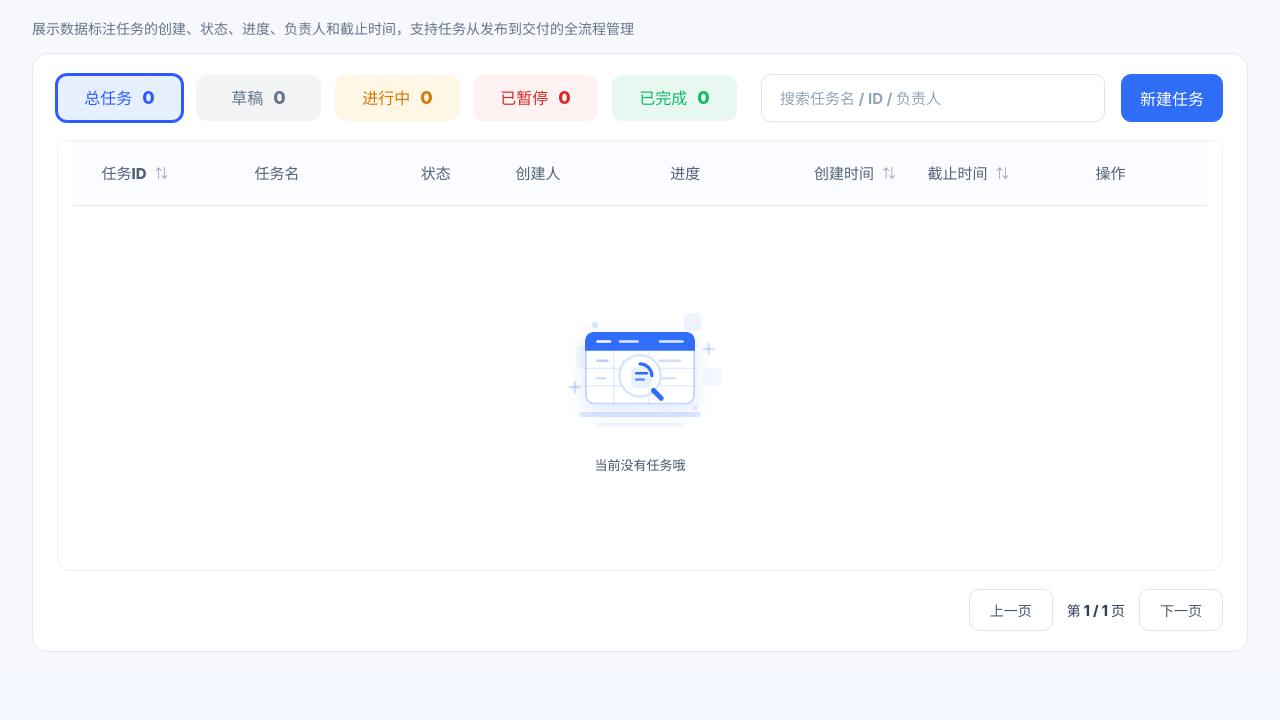
TaskListPage › 新建任务保存成功后新增行有自然入场动画
This screenshot has width=1280, height=720.
Expected: the table named "任务列表" is shown, 73,141 -> 1207,570
Step 1. Click the button "新建任务" → (1172, 98), box 1121,74 -> 1223,122
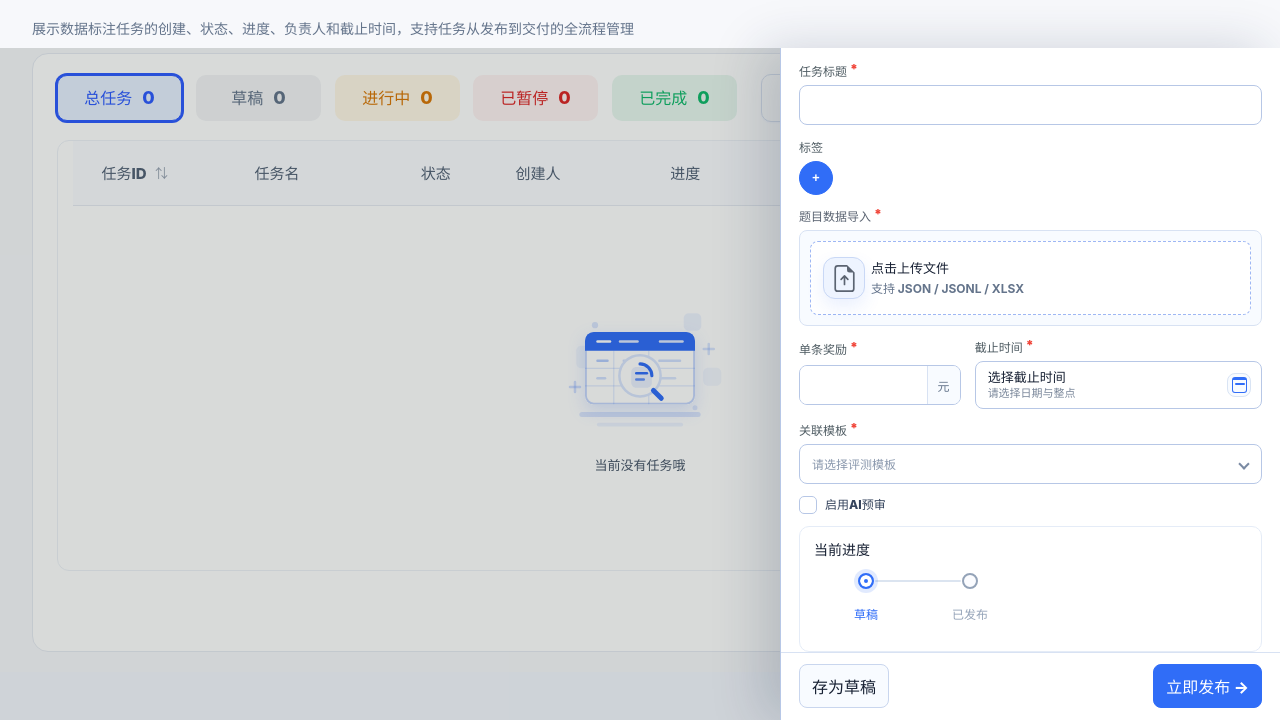
Step 2. Type "自然入场任务" into the field labelled "任务标题" → (1030, 105), box 799,85 -> 1262,125
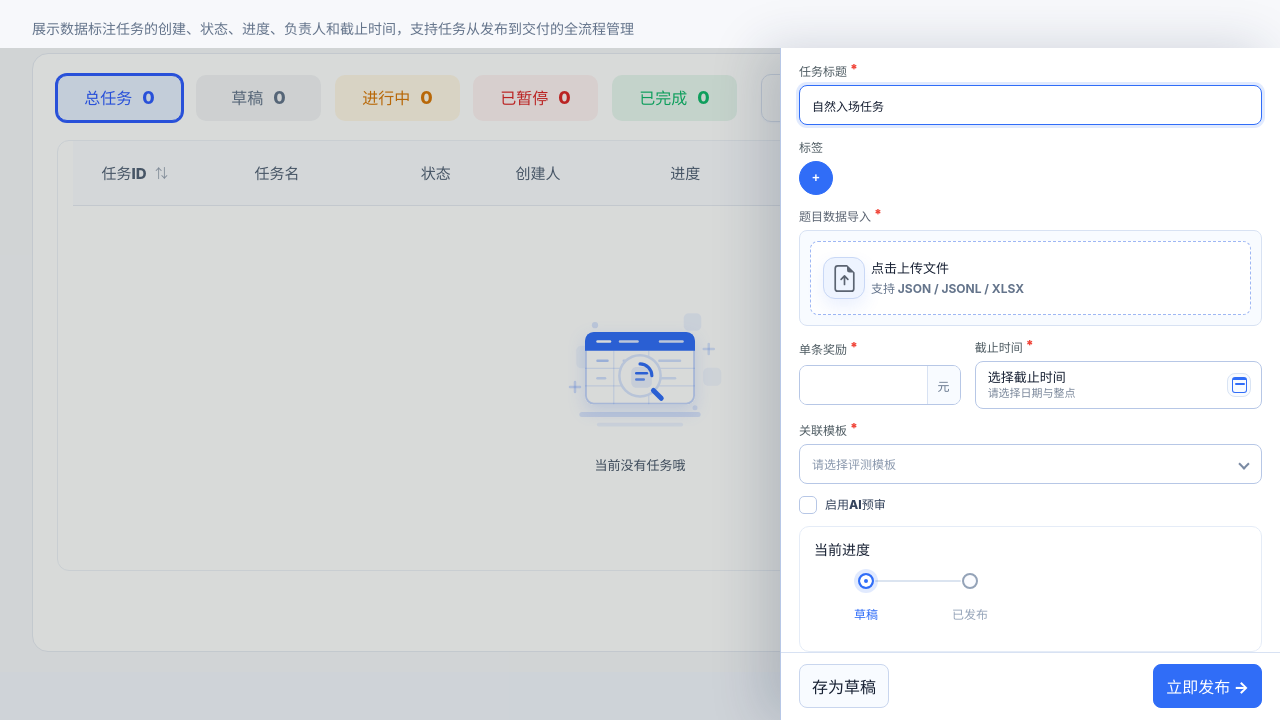
Step 3. Click the button "存为草稿" → (844, 686), box 799,664 -> 889,708
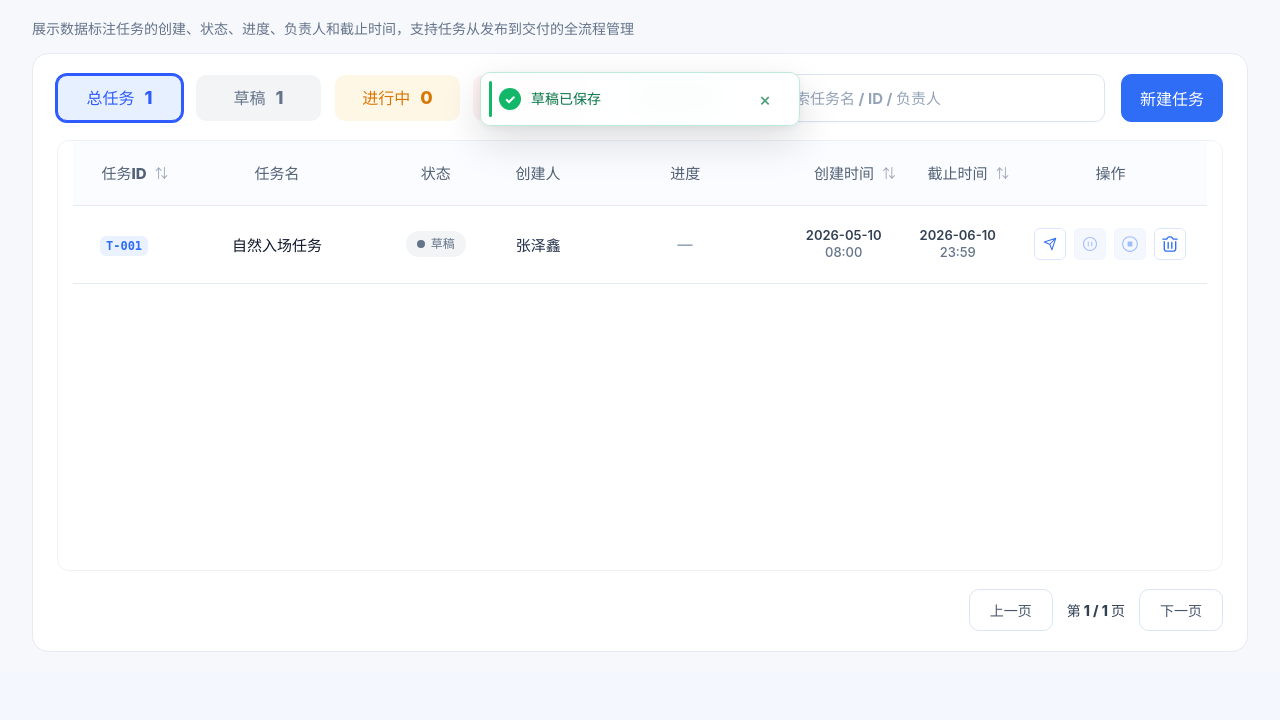
Result: the text "草稿已保存" is shown at 531,90 -> 601,107
Result: the text "自然入场任务" is shown at 232,234 -> 322,254
Result: the number of elements with class "task-table__cell-inner" is 7
